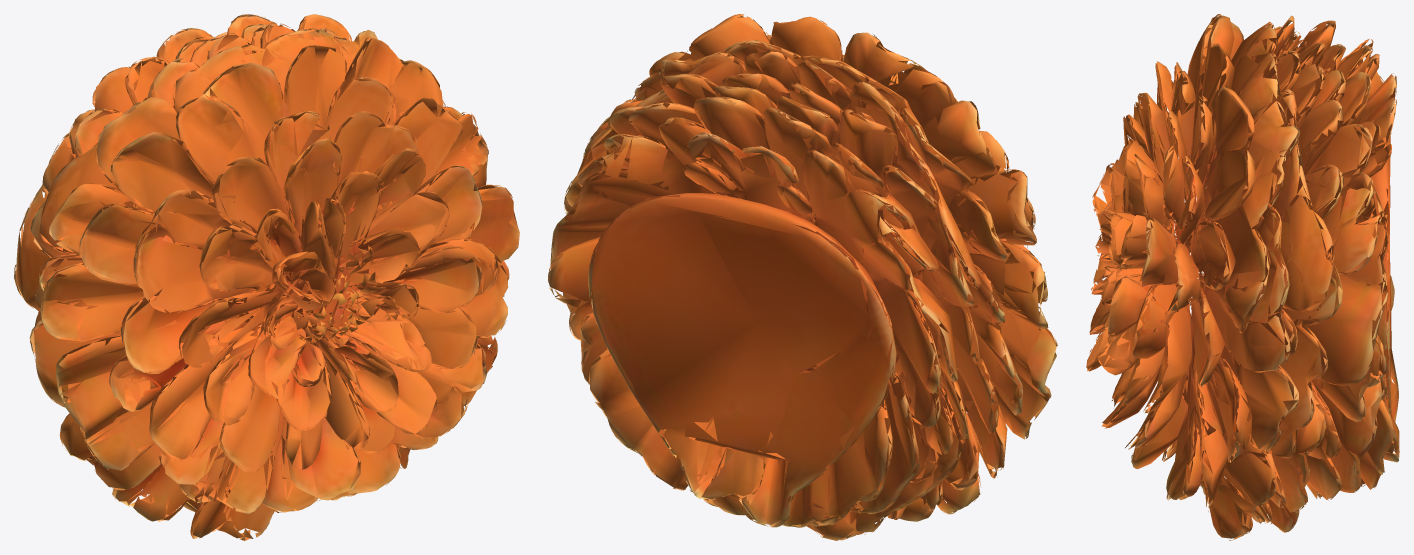
Rendered from orange_marigold.glb.
3 renders of one model, left to right at view 1: azimuth 30°, elevation 25°; view 2: azimuth 150°, elevation 25°; view 3: azimuth 270°, elevation 25°, orthographic. The views are drawn at different scales.
Visible parts, largest first — view 1: model; view 2: model; view 3: model.
Boxes of the visible parts, x1=… form: model: x1=14, y1=14, x2=519, y2=540; model: x1=548, y1=14, x2=1057, y2=540; model: x1=1086, y1=14, x2=1399, y2=540.
Size of the model in its own units: 1.88 by 1.9 by 1.12.
Materials: 1 (1 with a texture image).
